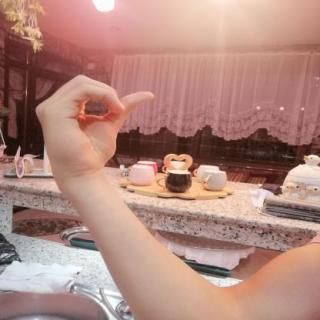WAW: (26, 67, 164, 183)
